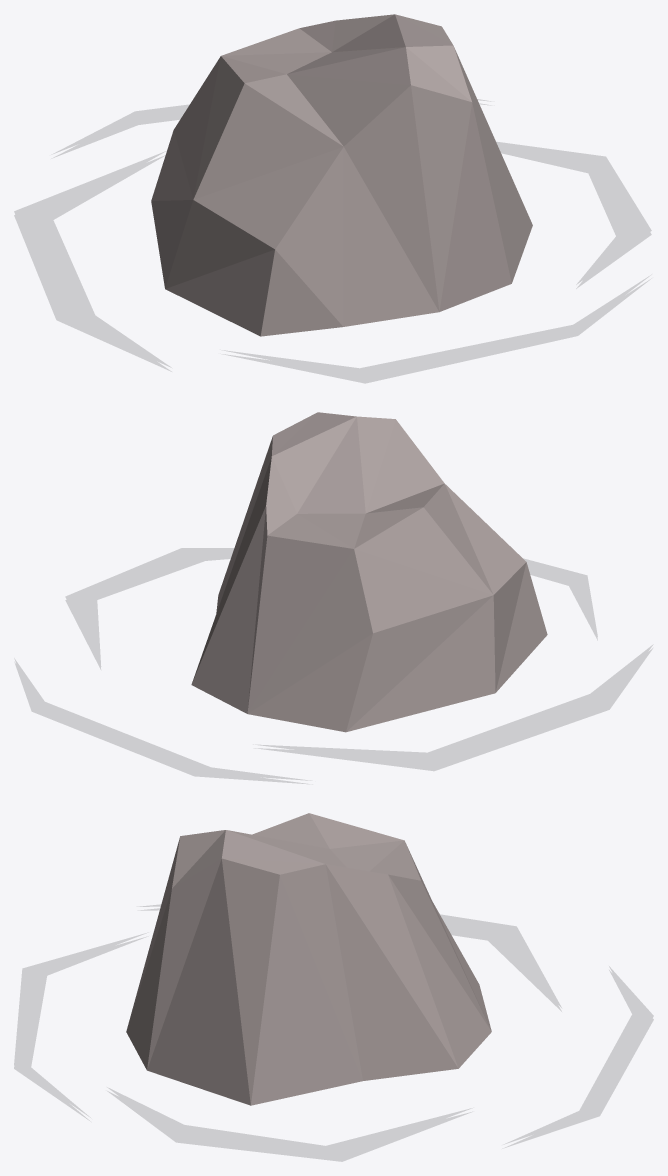
The picture shows the model from 3 angles, top to bottom: view 1: azimuth 30°, elevation 25°; view 2: azimuth 150°, elevation 25°; view 3: azimuth 270°, elevation 25°; orthographic projection. The views are drawn at different scales.
Size of the model in its own units: 152 by 57 by 154.
Materials: 1 (1 with a texture image).
